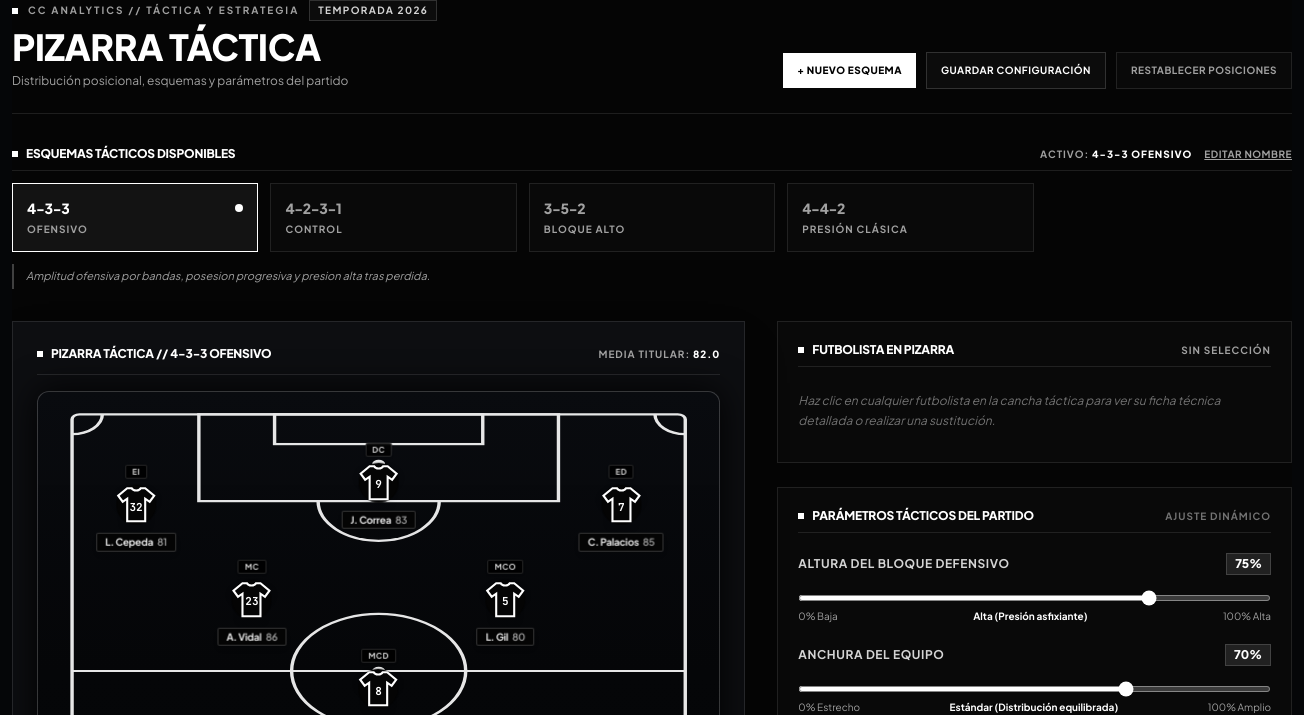
Test: Módulo de Pizarra Táctica y Formaciones (Pantalla 5) › permite alternar entre formaciones tacticas y actualiza el esquema activo
Expected: the text "Activo: 4-3-3 Ofensivo" is shown, [1040, 146, 1192, 162]
Expected: the text "4-3-3 Ofensivo" is shown, [1092, 148, 1192, 160]
# seleccionar esquema 4-2-3-1
What coordinates should you click on to do the following:
click the button "4-2-3-1 Control"
I would click on:
 (394, 218)
Its box is [270, 183, 517, 252].
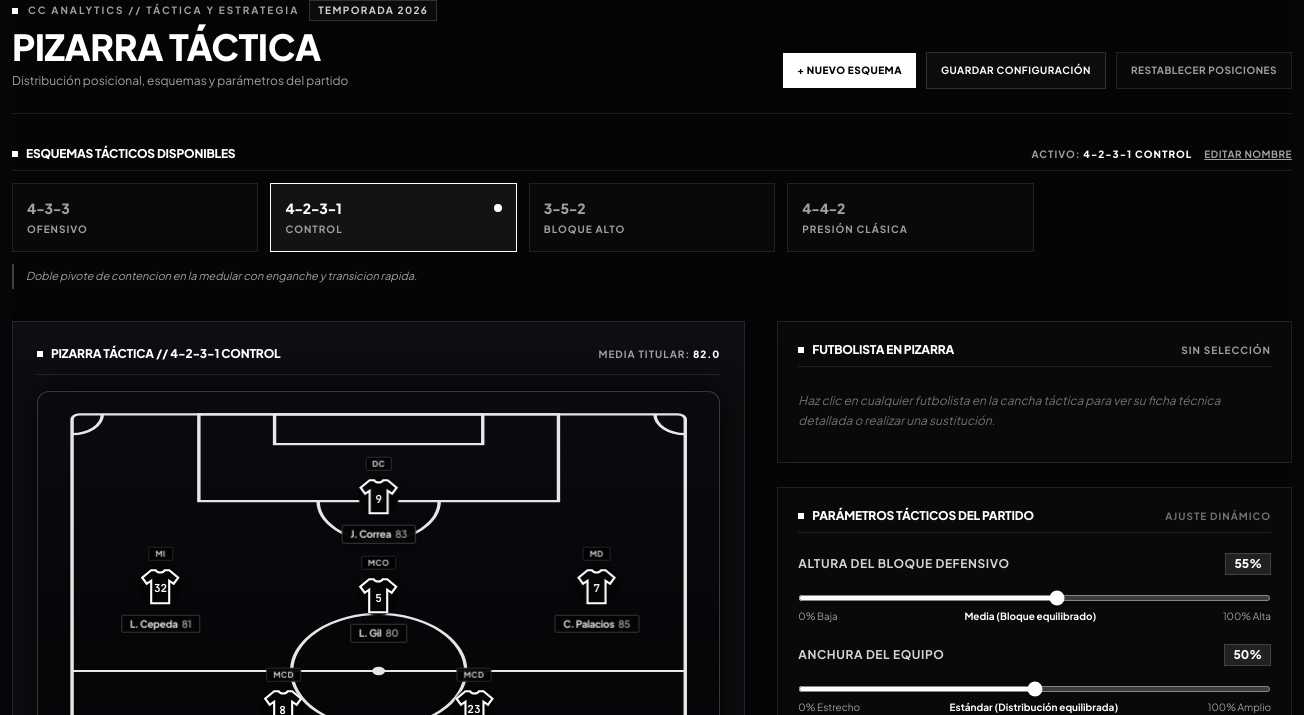
Expected: the text "4-2-3-1 Control" is shown, [1083, 148, 1192, 160]
# seleccionar esquema 3-5-2
What coordinates should you click on to do the following:
click the button "3-5-2 Bloque Alto"
I would click on:
 (652, 218)
Its box is [529, 183, 775, 252].
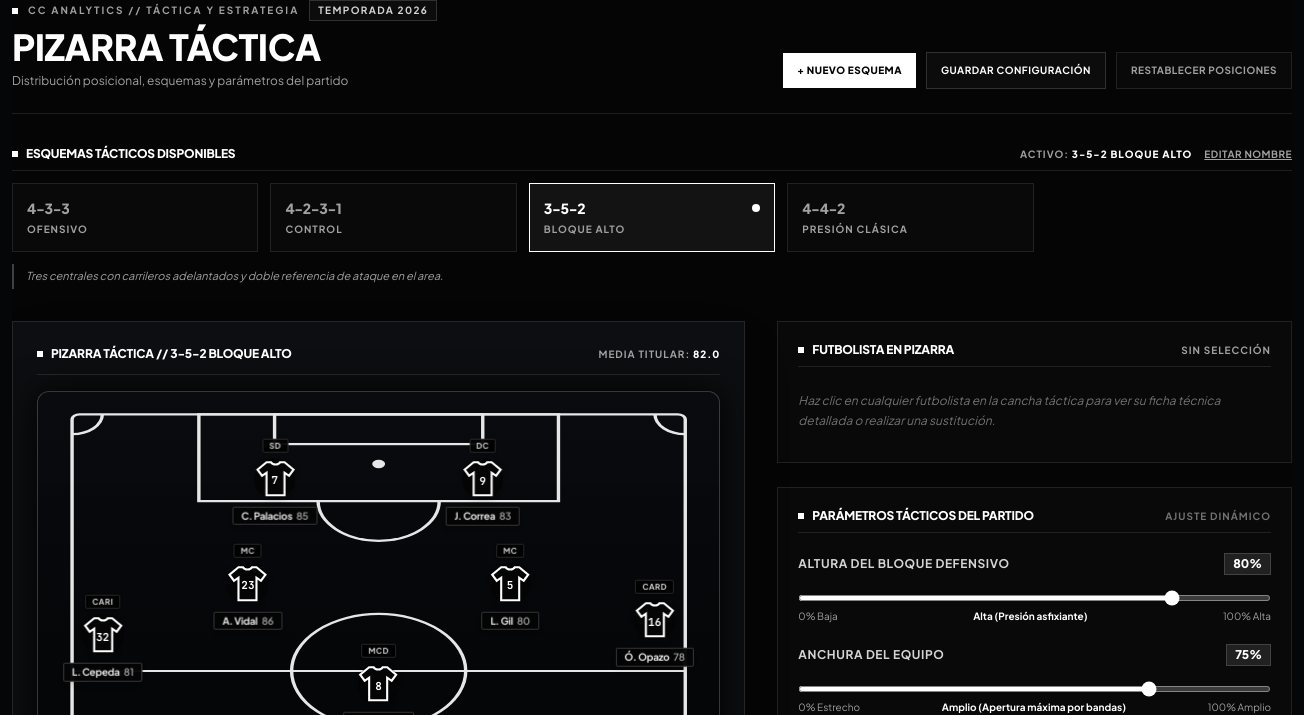
Expected: the text "3-5-2 Bloque Alto" is shown, [1072, 148, 1192, 160]
